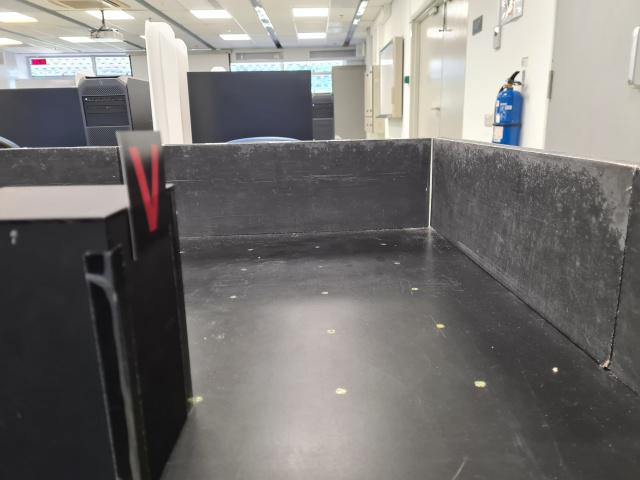v: (114, 131, 173, 260)
